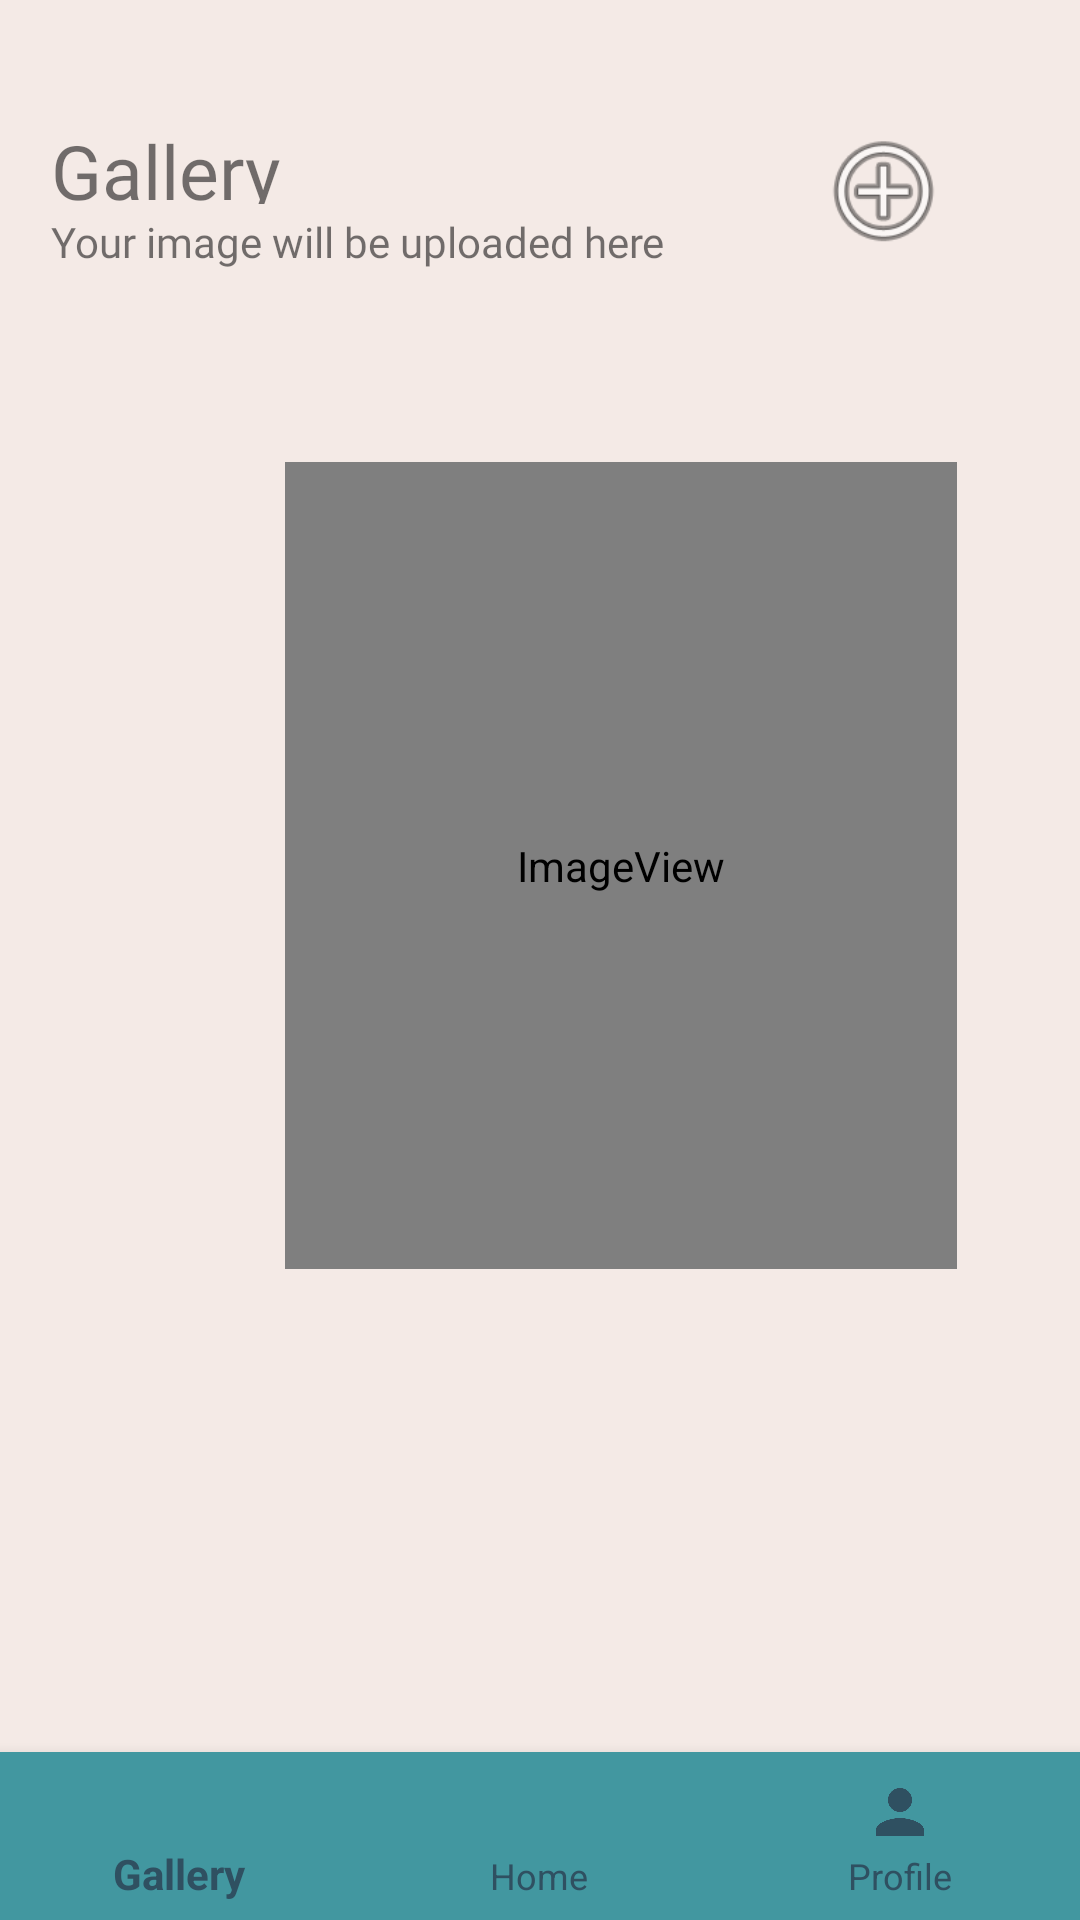

Screen size 1080w x 1920h. Icon name, then its center in pixels as (x=x, y=y):
add: (x=883, y=191)
